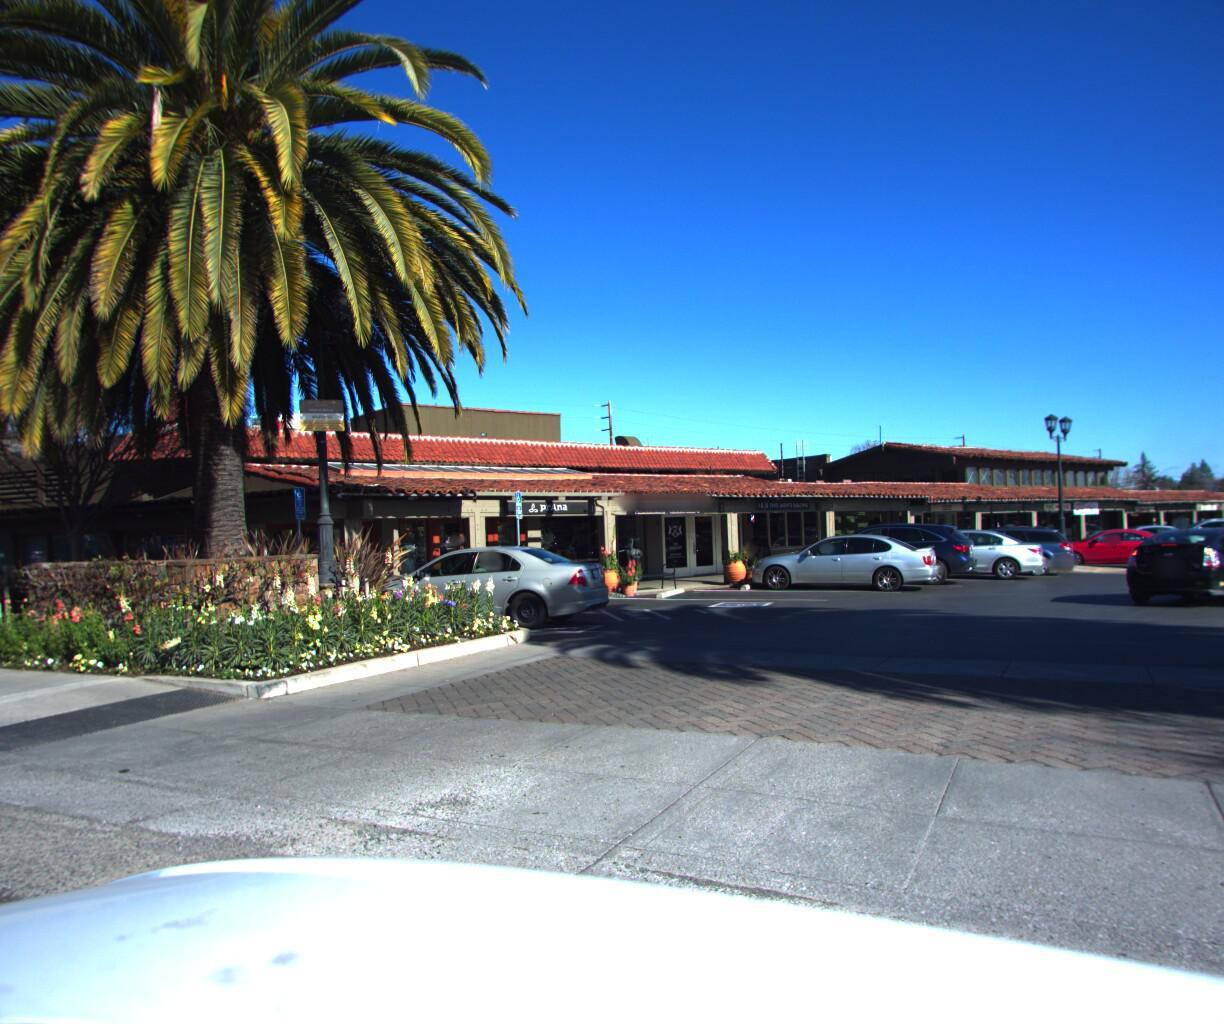car: (346, 534, 620, 627)
